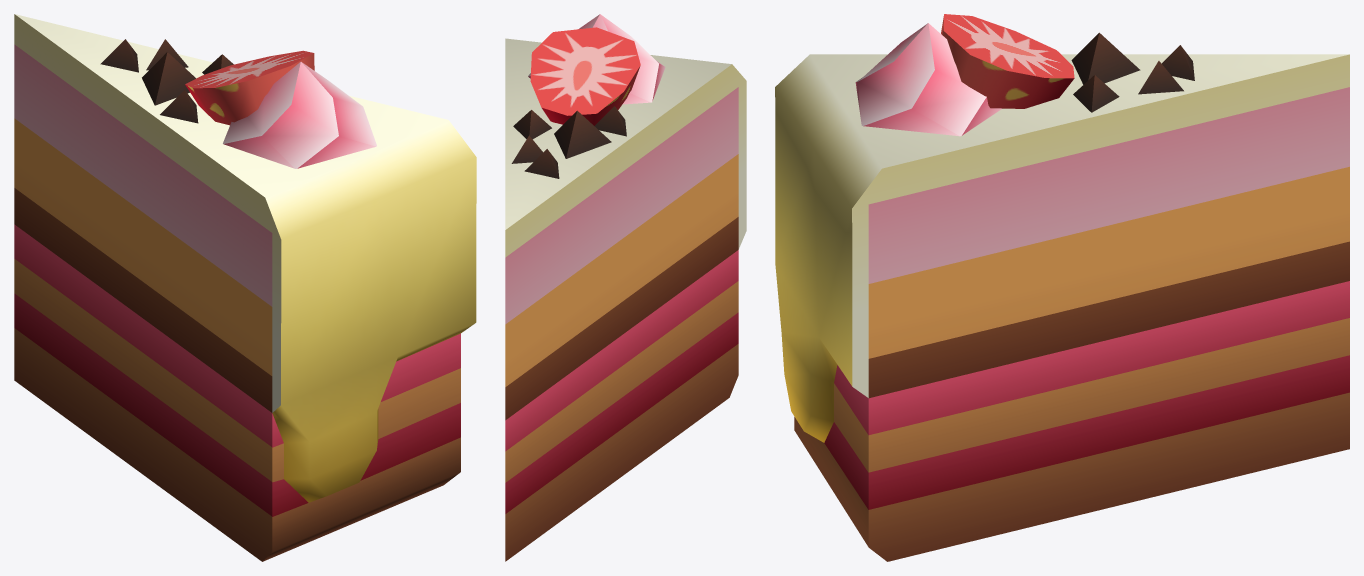
Rendered from m_Cake02_Slice03.fbx.
3 renders of one model, left to right at view 1: azimuth 30°, elevation 25°; view 2: azimuth 150°, elevation 25°; view 3: azimuth 270°, elevation 25°, orthographic. The views are drawn at different scales.
Parts seen in each view (by area): view 1: m_Cake02_Slice03; view 2: m_Cake02_Slice03; view 3: m_Cake02_Slice03.
Boxes of the visible parts, <box> form: m_Cake02_Slice03: <box>14,14,476,561</box>; m_Cake02_Slice03: <box>505,14,746,561</box>; m_Cake02_Slice03: <box>775,14,1349,561</box>.
Bounding box in the file's own units: 7.24 × 13.18 × 14.48.
